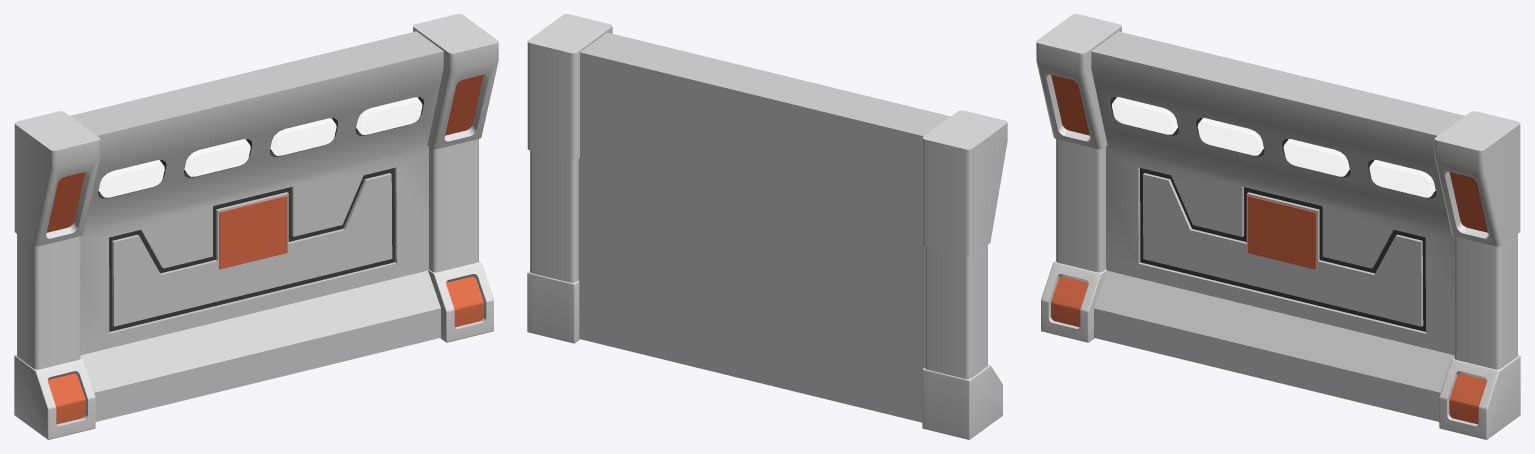
File: wall1-4.glb
The picture shows the model from 3 angles, left to right: view 1: azimuth 30°, elevation 25°; view 2: azimuth 150°, elevation 25°; view 3: azimuth 330°, elevation 25°; orthographic projection.
Visible parts, largest first — view 1: Cube.005, Cube, Cube.001; view 2: Cube.005, Cube; view 3: Cube.005, Cube, Cube.001.
Boxes of the visible parts, box(x1,y1,x2,y2) form: Cube.005: box(70, 31, 443, 421); Cube: box(14, 14, 498, 439); Cube.001: box(219, 196, 287, 269); Cube.005: box(578, 32, 950, 422); Cube: box(527, 14, 1007, 439); Cube.005: box(1091, 31, 1464, 421); Cube: box(1036, 14, 1520, 439); Cube.001: box(1248, 196, 1316, 269).
Bounding box in the file's own units: 16.51 × 10.32 × 2.54.
